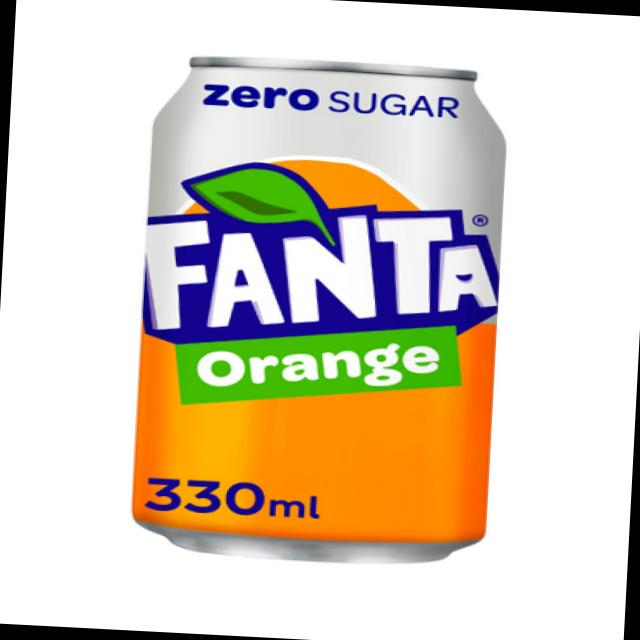fanta: (130, 49, 518, 564)
